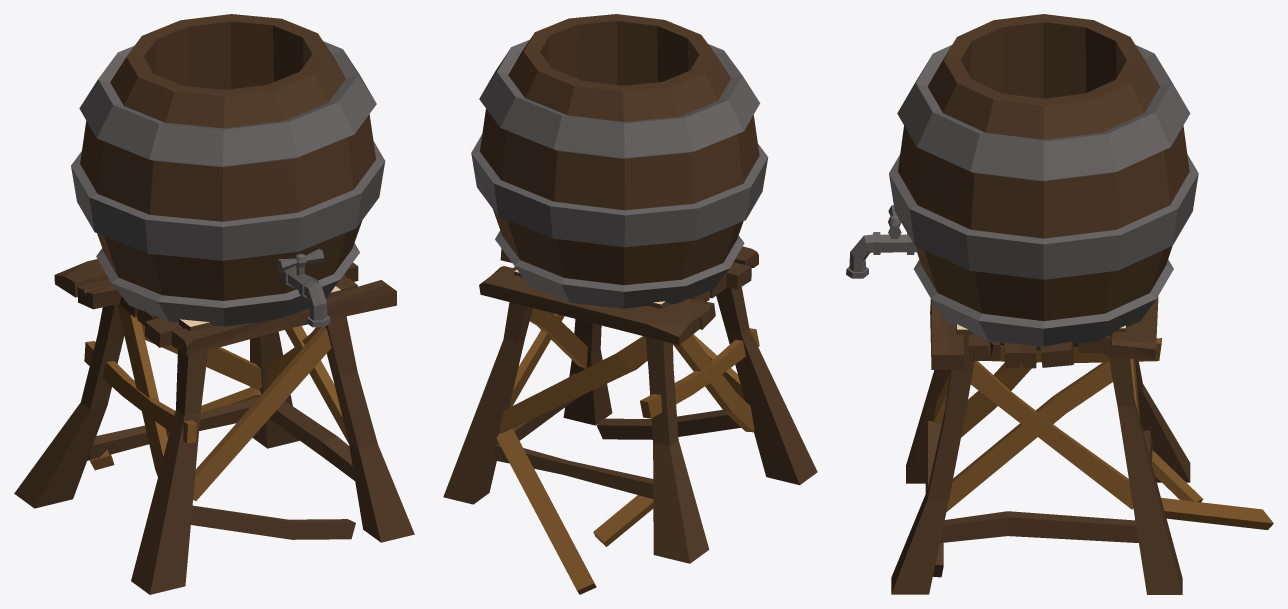
The model's file is Water_storage_2.fbx.
3 renders of one model, left to right at view 1: azimuth 30°, elevation 25°; view 2: azimuth 150°, elevation 25°; view 3: azimuth 270°, elevation 25°, orthographic. The views are drawn at different scales.
Parts seen in each view (by area): view 1: Cube.012; view 2: Cube.012; view 3: Cube.012.
Part boxes in pixels (x1,y1,x2,y2): Cube.012: (14, 14, 414, 594); Cube.012: (443, 14, 817, 594); Cube.012: (846, 14, 1273, 594).
Bounding box in the file's own units: 3.95 × 4.93 × 6.4.
